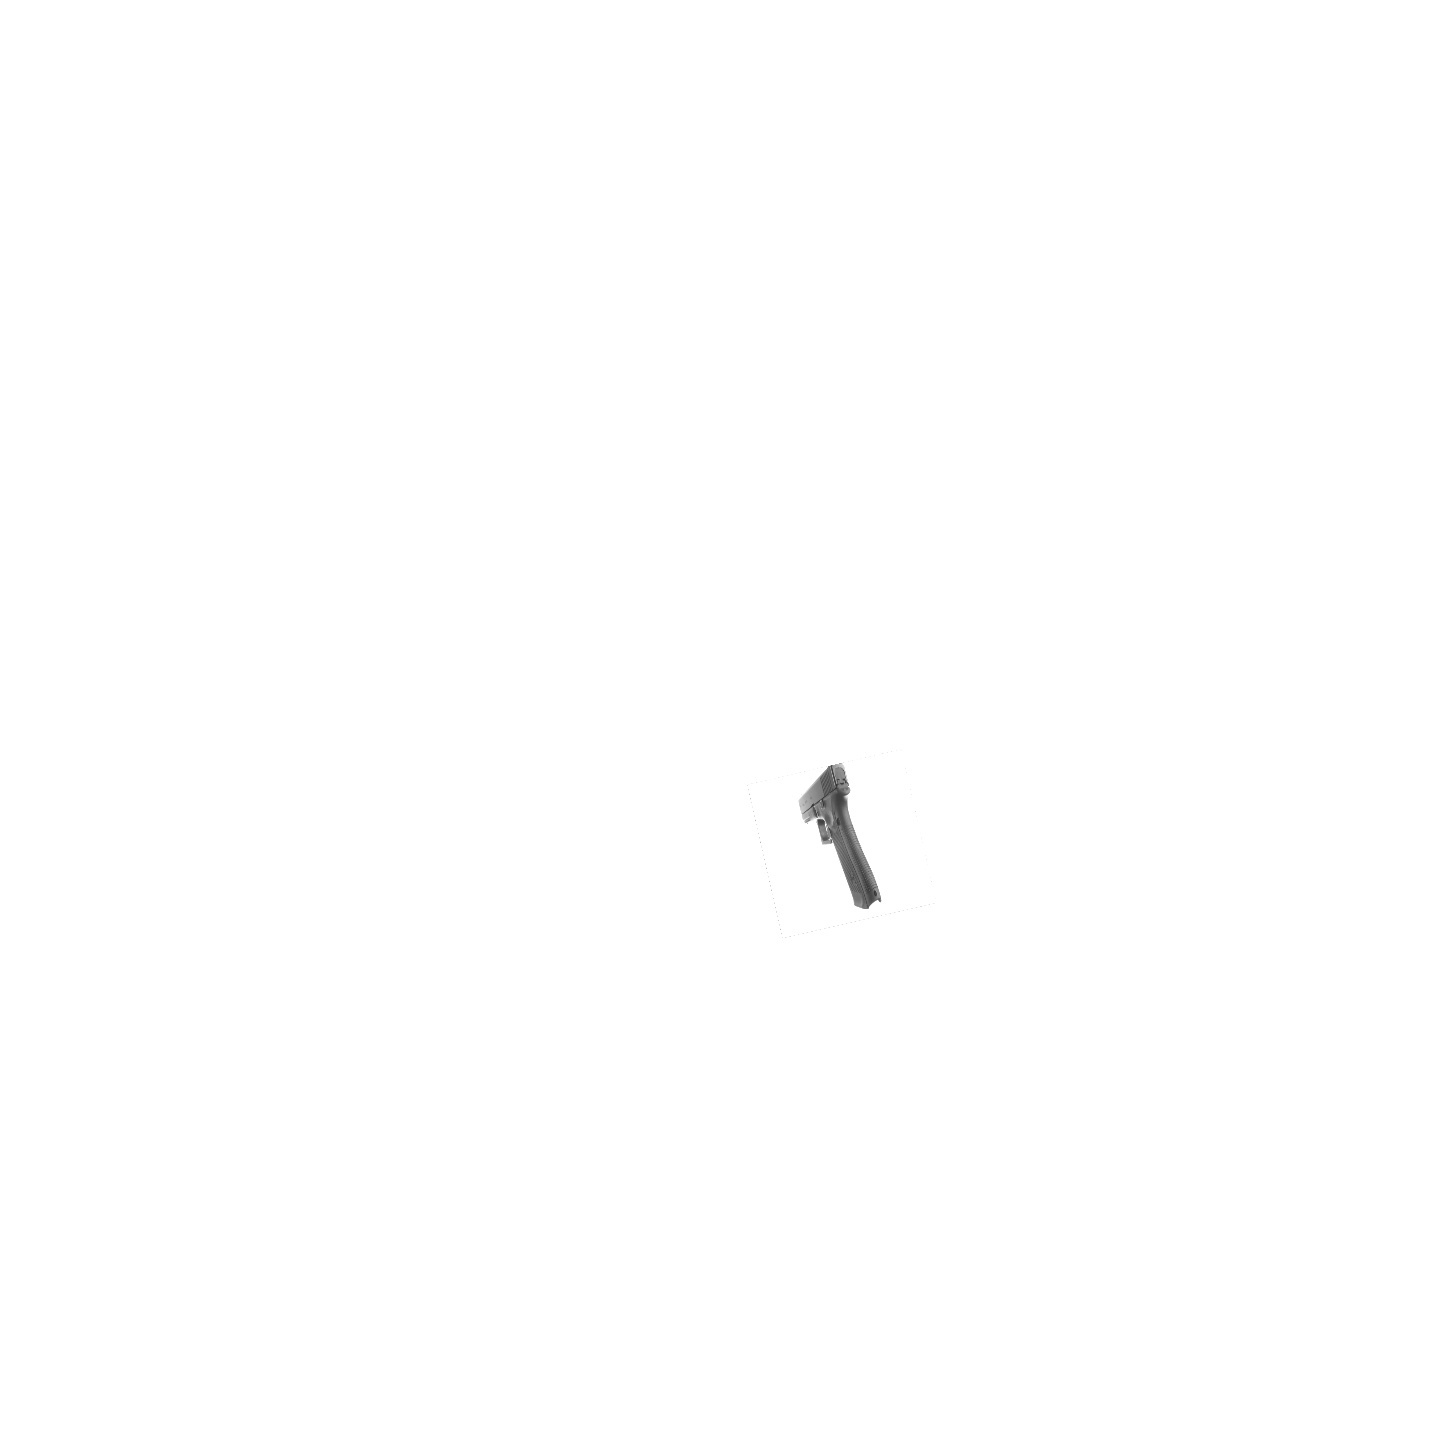gun: (798, 762, 882, 909)
